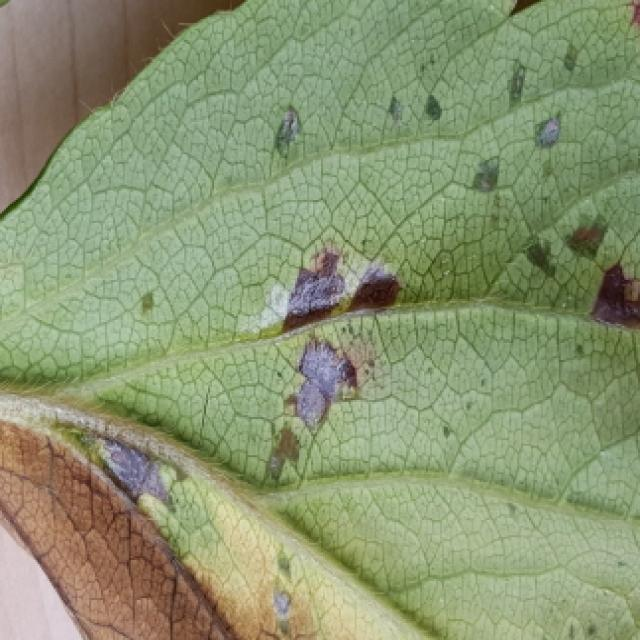Angular Leafspot: (0, 0, 640, 640)
